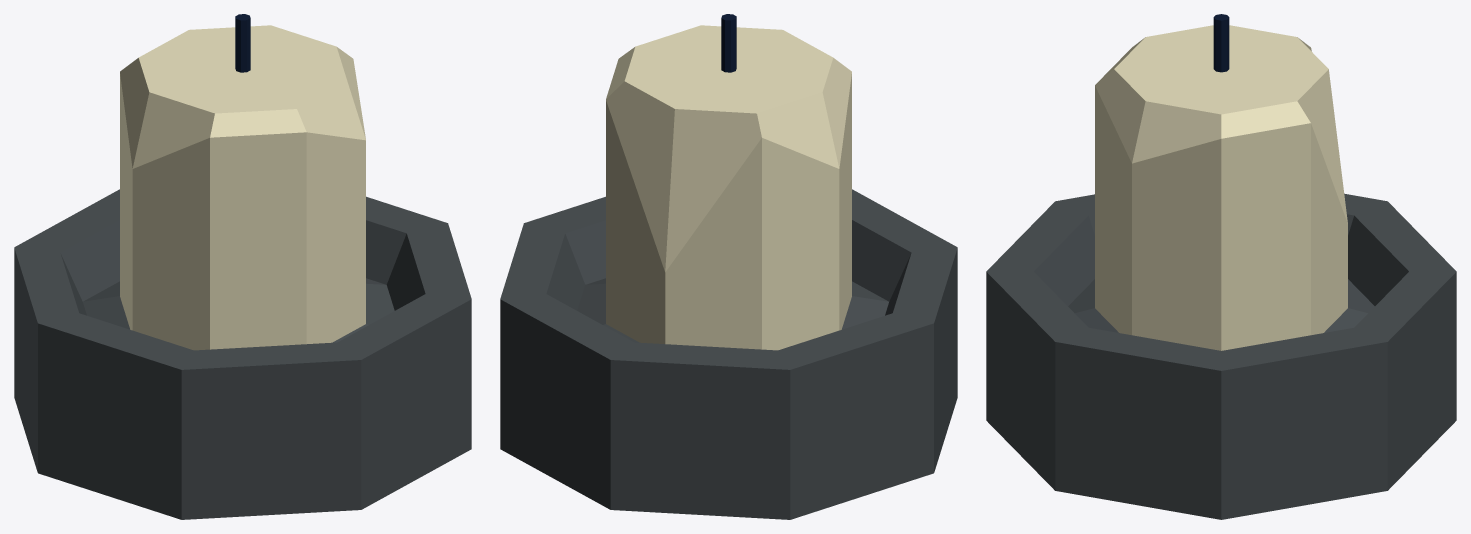
File: Prop_Candle01.fbx
3 views of the same model, side by side, from view 1: azimuth 30°, elevation 25°; view 2: azimuth 150°, elevation 25°; view 3: azimuth 270°, elevation 25° (orthographic).
Visible parts, largest first — view 1: Cylinder.030; view 2: Cylinder.030; view 3: Cylinder.030.
Boxes of the visible parts, bbox=[...] form: Cylinder.030: bbox=[14, 14, 471, 519]; Cylinder.030: bbox=[500, 14, 957, 519]; Cylinder.030: bbox=[986, 14, 1456, 519].
Size of the model in its own units: 26.81 by 25.36 by 26.81.
